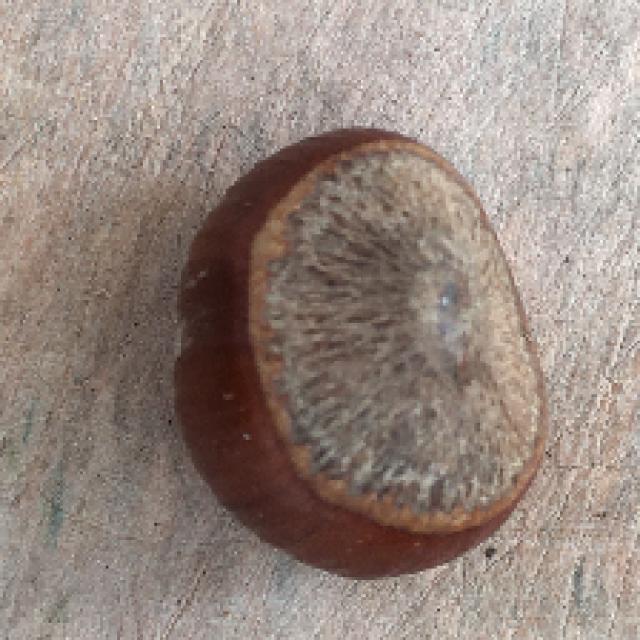qualityHazelnut: (175, 117, 552, 573)
